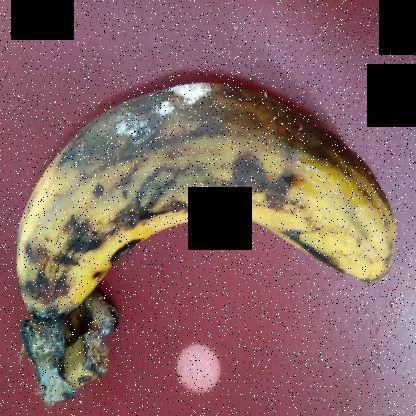rotten: (10, 34, 406, 316)
